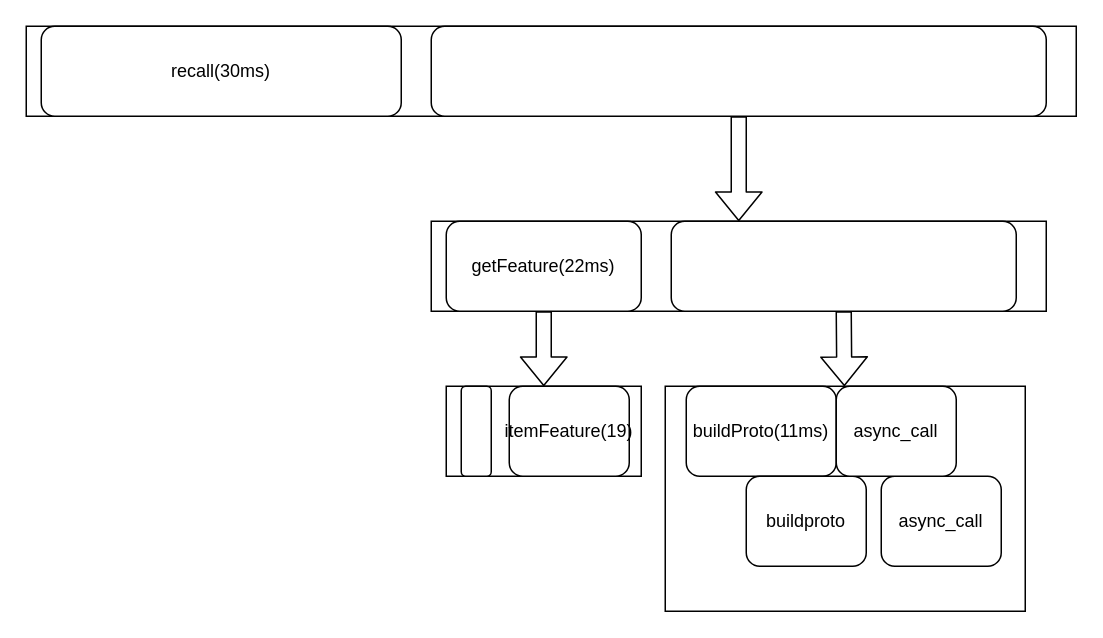
Some shapes in this 1103 by 638 pixel diagram are drawn without their labels. The shapes that lost their labels are listed below. From the top down, each one's centre as x and y in pixels, then its label:
At point (738, 70): "model(76ms)".
At point (843, 265): "predict(52ms)".
At point (475, 430): "user".
